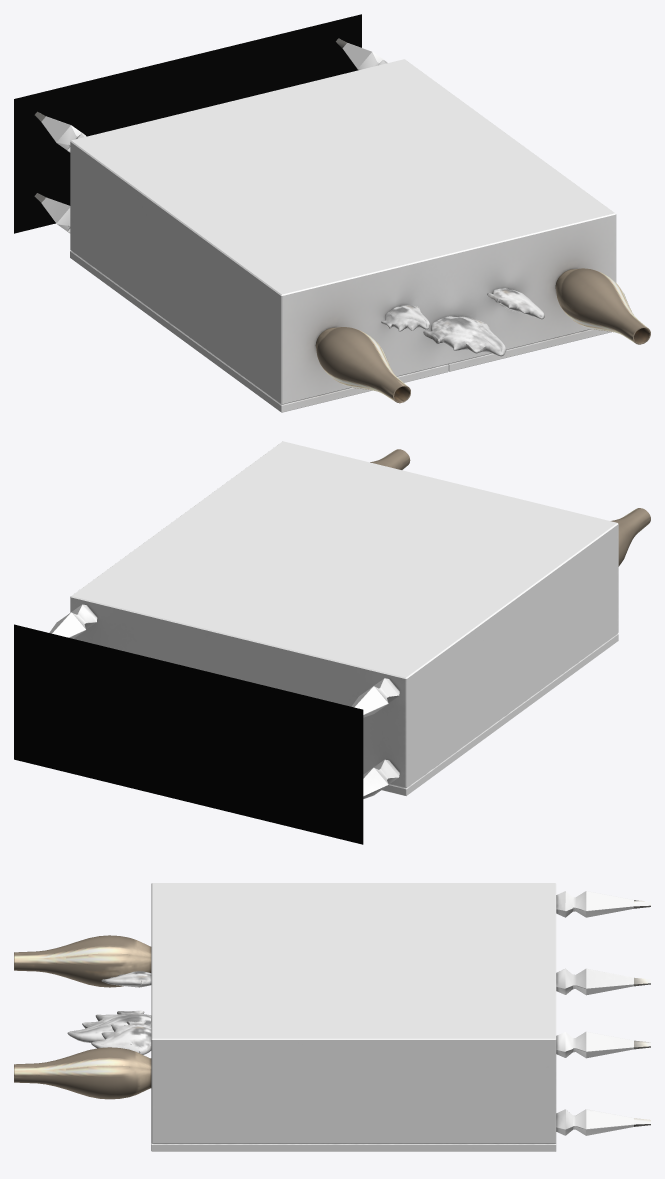
The model's file is raw_model.glb.
3 views of the same model, one above another, from view 1: azimuth 30°, elevation 25°; view 2: azimuth 150°, elevation 25°; view 3: azimuth 270°, elevation 25° (orthographic). The views are drawn at different scales.
Parts seen in each view (by area): view 1: raw_model.038; view 2: raw_model.038; view 3: raw_model.038.
Boxes of the visible parts, x1,y1,x2,y2 form: raw_model.038: (14, 14, 650, 412); raw_model.038: (14, 441, 650, 844); raw_model.038: (14, 883, 650, 1151).
Bounding box in the file's own units: 1.04 × 0.3864 × 1.73.
Materials: 1 (1 with a texture image).
